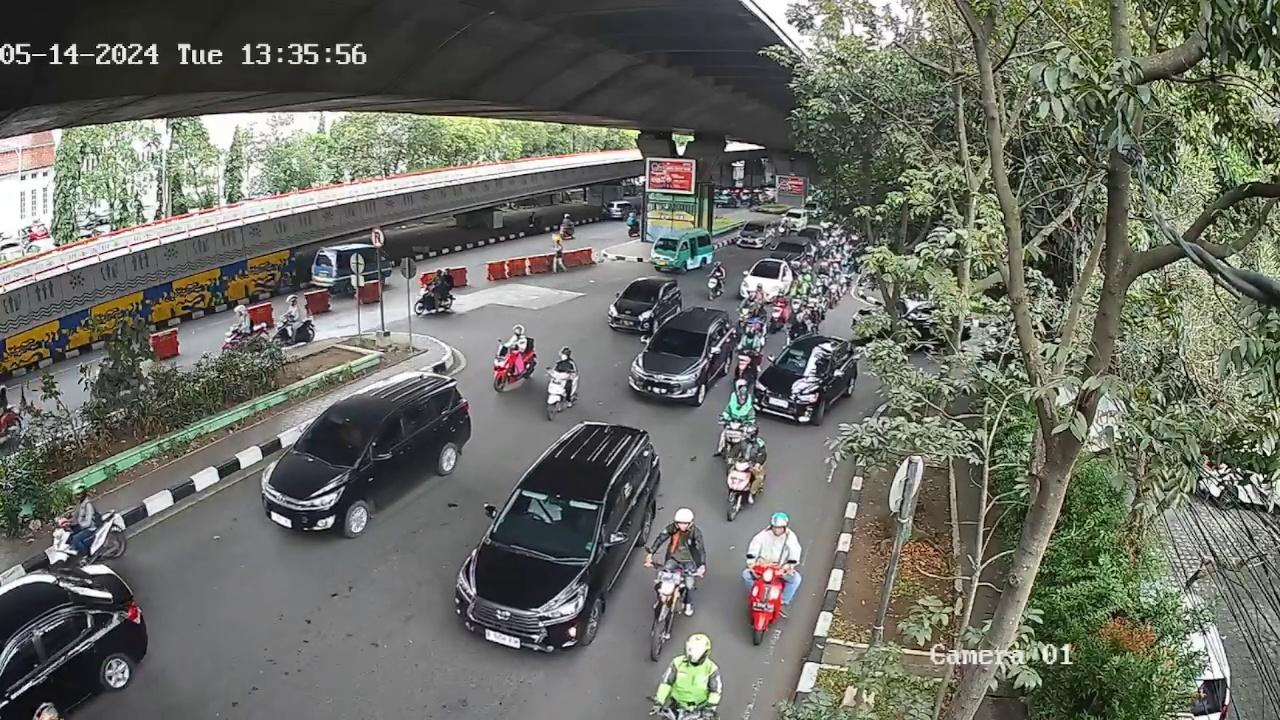pakai: (527, 496, 563, 533)
windshield: (490, 488, 603, 559), (295, 407, 378, 464), (643, 322, 707, 360), (771, 342, 837, 376), (618, 281, 660, 306)
